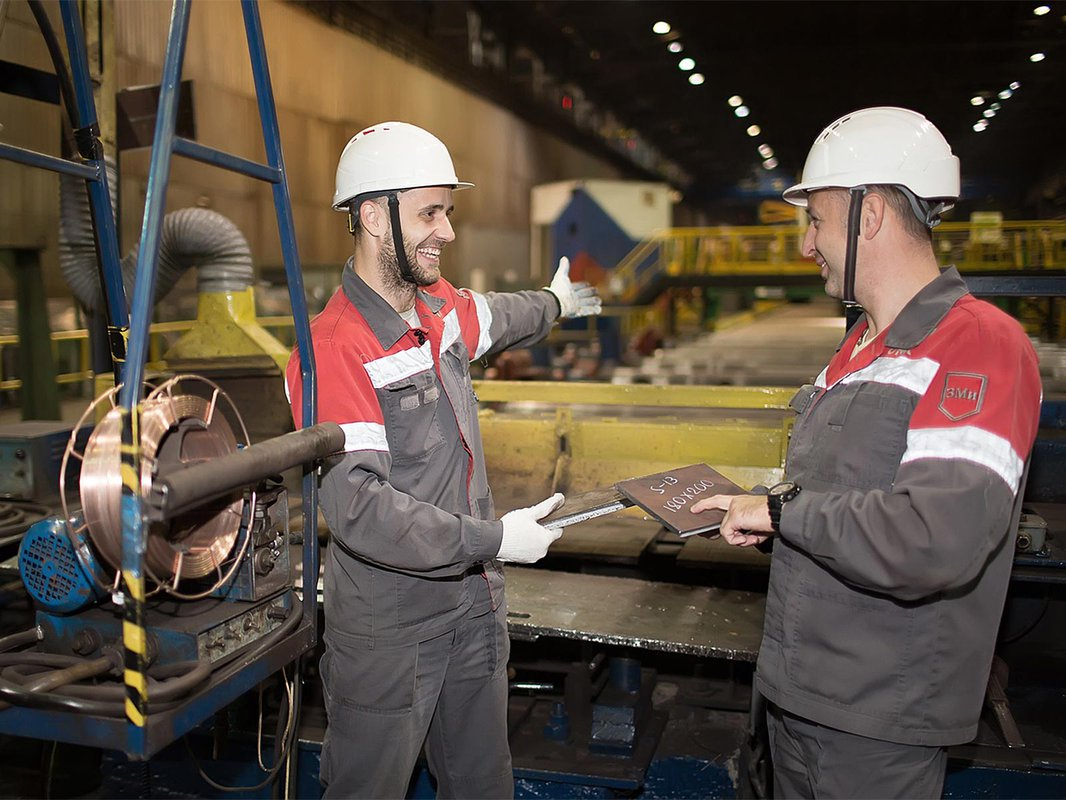person: (689, 107, 1044, 800), (283, 121, 603, 800)
